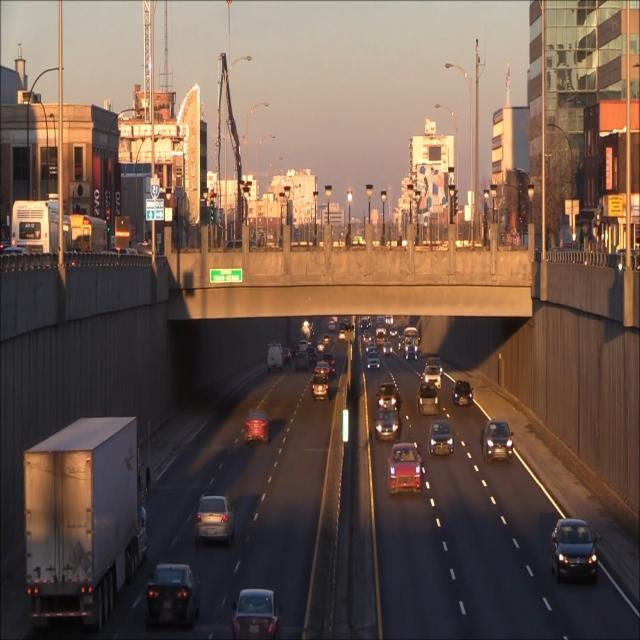Car: (21, 413, 148, 624), (145, 562, 201, 632), (223, 582, 282, 640), (553, 517, 601, 585), (195, 492, 236, 551), (389, 441, 424, 497), (481, 418, 516, 465), (427, 420, 456, 458), (373, 406, 399, 444), (244, 408, 271, 444), (416, 382, 440, 416), (450, 379, 475, 410), (376, 380, 399, 412), (310, 374, 332, 402), (423, 368, 442, 392)
